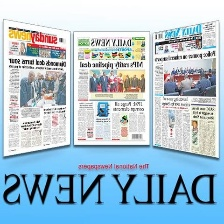news_paper: (0, 16, 72, 158), (150, 18, 222, 159), (71, 29, 152, 147)
